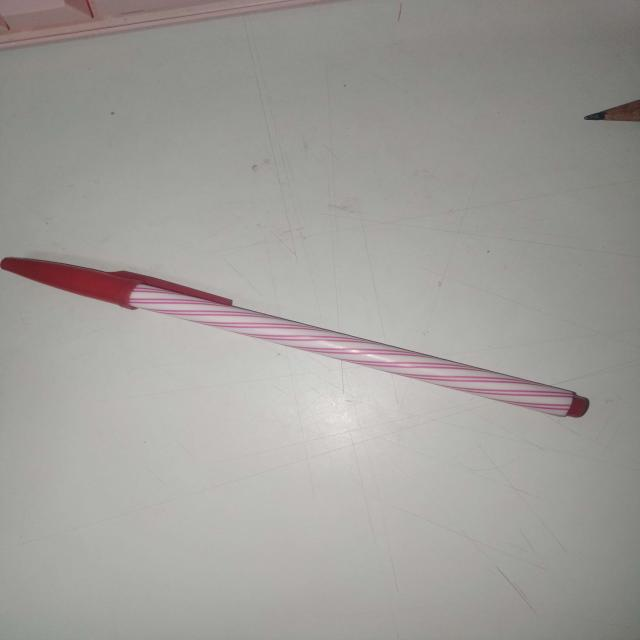pen_pencil: (0, 212, 607, 468)
